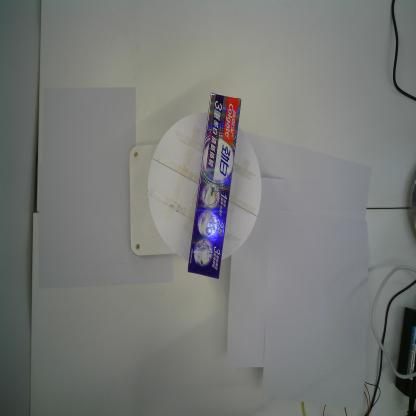Personal Hygiene: (185, 90, 242, 282)
